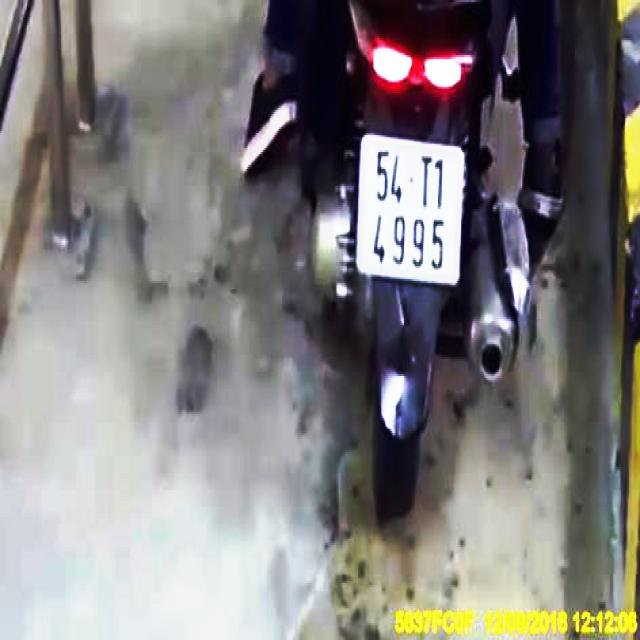license_plate: (358, 139, 465, 286)
